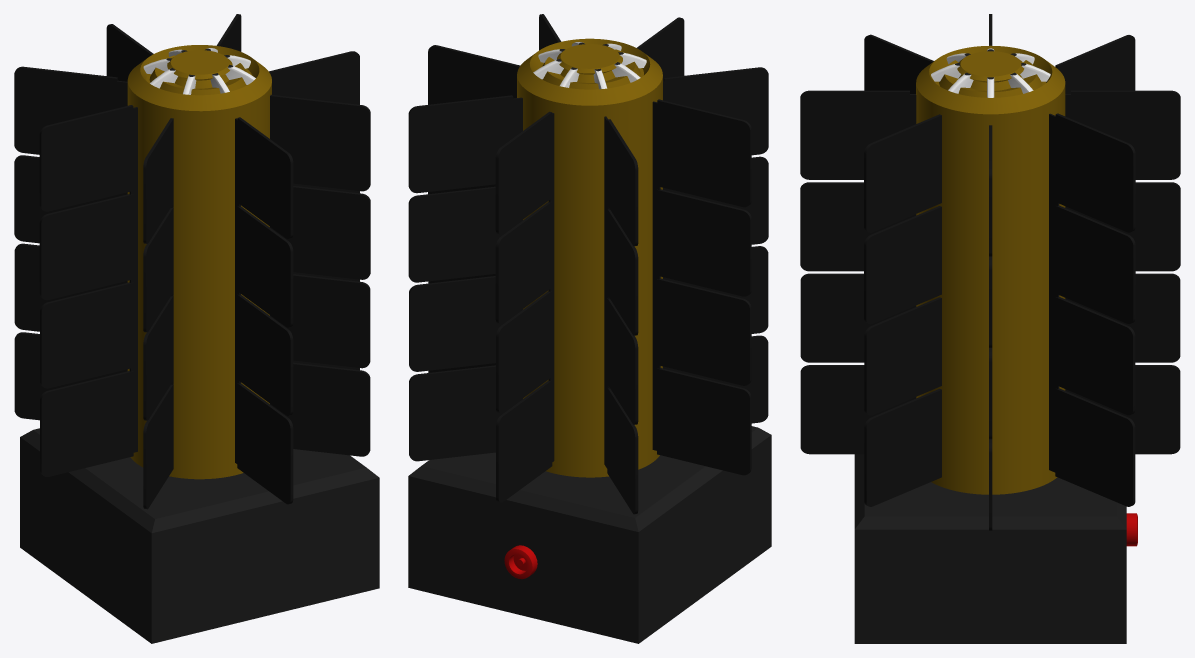
Rendered from RTG.gltf.
3 renders of one model, left to right at view 1: azimuth 30°, elevation 25°; view 2: azimuth 150°, elevation 25°; view 3: azimuth 270°, elevation 25°, orthographic. The views are drawn at different scales.
Parts seen in each view (by area): view 1: body; view 2: body; view 3: body.
Part boxes in pixels (x1=…): body: x1=14, y1=14, x2=379, y2=643; body: x1=408, y1=14, x2=771, y2=643; body: x1=800, y1=14, x2=1180, y2=643.
Size of the model in its own units: 0.6994 by 1.06 by 0.6994.
